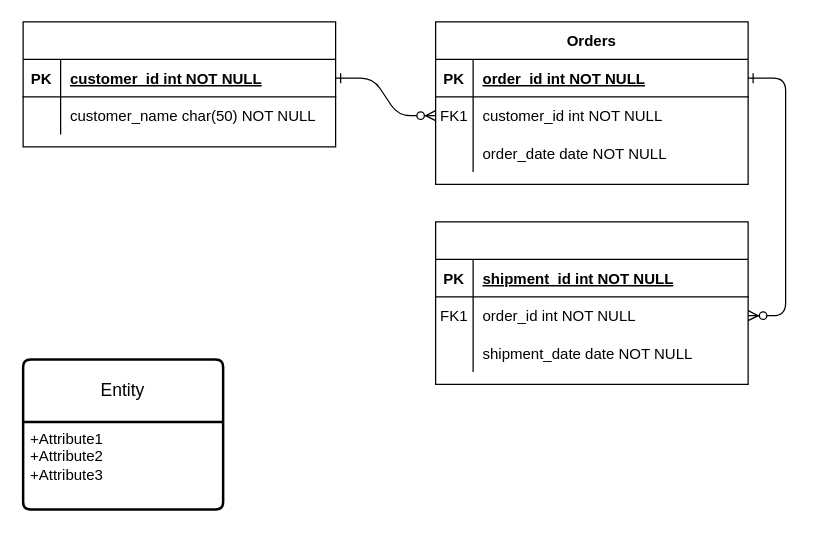
Some shapes in this 819 by 533 pixel diagram are drawn without their labels. Here are the shapes that lost their labels. From the top down, the box of each, then its label:
(22, 21, 336, 147): Customers
(434, 221, 748, 384): Shipments
